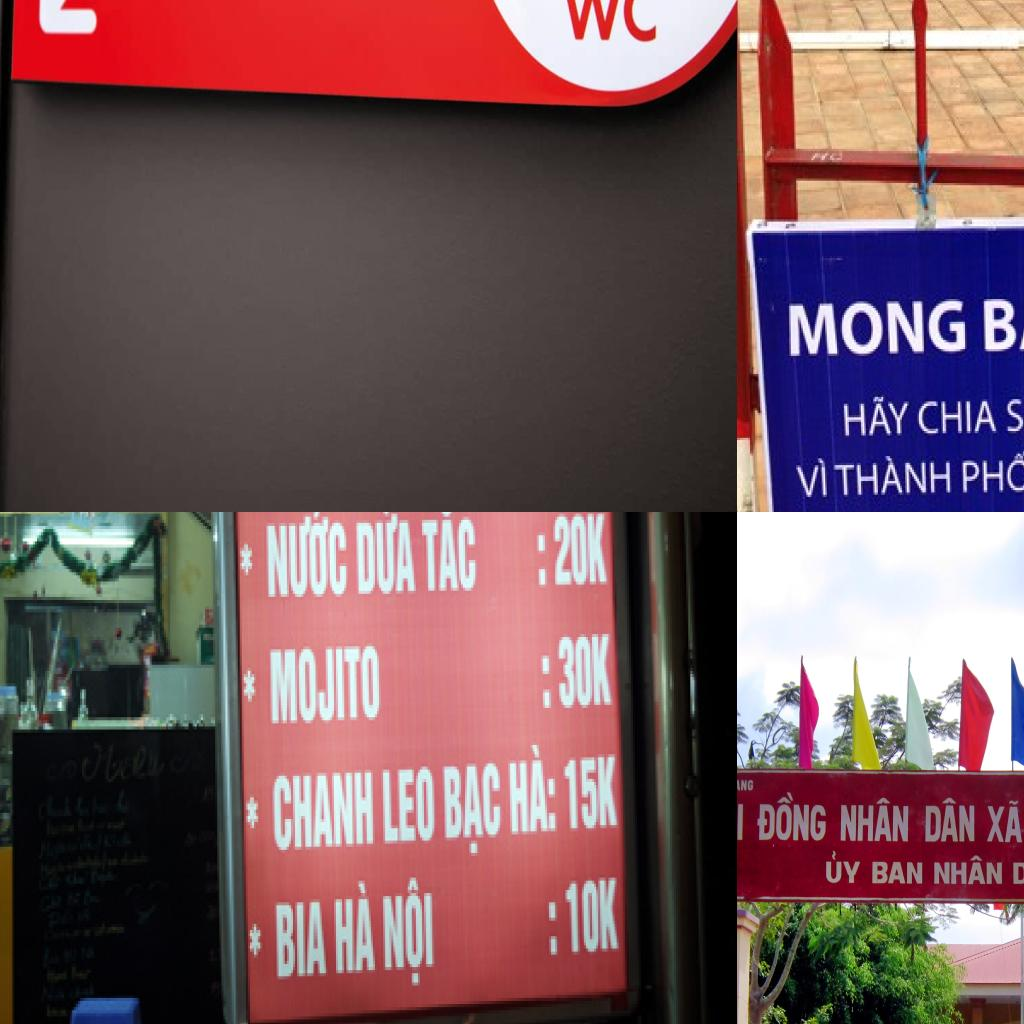text: (788, 294, 968, 365), (264, 643, 386, 727), (269, 763, 381, 853), (260, 512, 350, 603), (379, 874, 438, 1001), (832, 449, 955, 506), (264, 890, 334, 982), (445, 757, 504, 862), (506, 736, 561, 844), (350, 512, 419, 597), (379, 760, 440, 853), (561, 874, 623, 964), (563, 748, 621, 838), (555, 628, 615, 714), (419, 512, 479, 597), (330, 872, 375, 980), (548, 512, 608, 590), (914, 397, 1004, 442), (839, 390, 910, 442), (757, 792, 826, 842), (982, 294, 1024, 374), (840, 797, 909, 843), (958, 449, 1024, 497), (925, 797, 975, 842), (934, 855, 1003, 885), (791, 458, 832, 502), (986, 799, 1024, 843), (543, 893, 563, 961), (824, 850, 864, 884), (872, 862, 923, 884), (244, 918, 268, 964), (1002, 390, 1024, 438), (539, 649, 555, 714), (242, 791, 262, 841), (240, 662, 260, 708), (535, 529, 549, 588), (238, 542, 258, 578), (1012, 855, 1024, 885), (737, 780, 753, 791)
